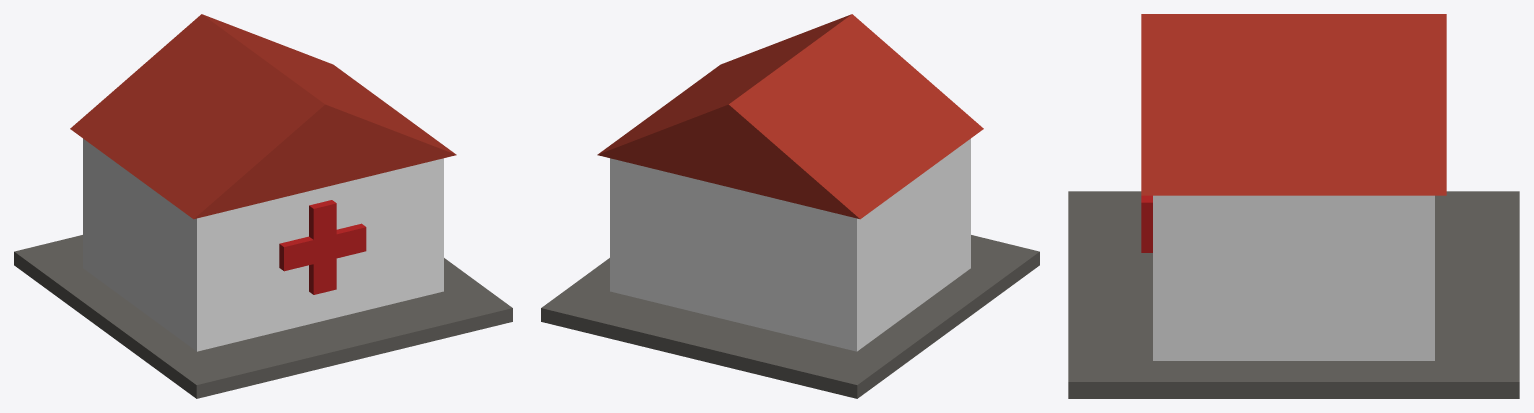
Rendered from hospital.glb.
The picture shows the model from 3 angles, left to right: view 1: azimuth 30°, elevation 25°; view 2: azimuth 150°, elevation 25°; view 3: azimuth 270°, elevation 25°; orthographic projection. The views are drawn at different scales.
Parts seen in each view (by area): view 1: hospital; view 2: hospital; view 3: hospital.
Boxes of the visible parts, x1=… form: hospital: x1=14, y1=14, x2=512, y2=398; hospital: x1=541, y1=14, x2=1039, y2=398; hospital: x1=1068, y1=14, x2=1519, y2=398.
Bounding box in the file's own units: 1.92 × 1.36 × 1.92.
